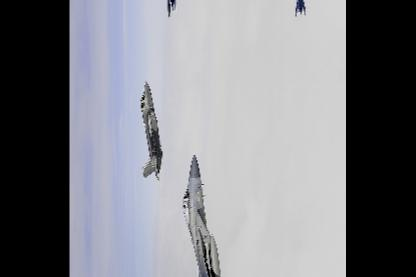B1: (160, 0, 179, 20), (295, 0, 307, 16)
F117: (176, 152, 221, 276)
F22: (140, 80, 162, 179)
